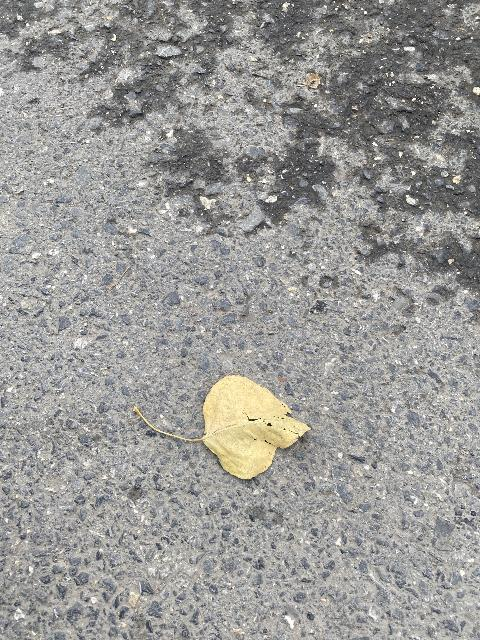Organik: (125, 370, 319, 481)
